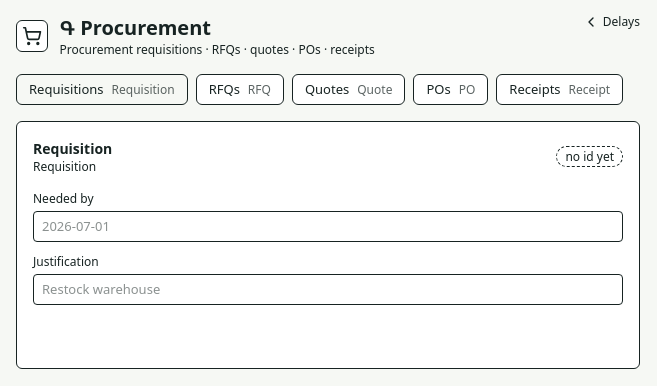
Test case: disabled-until-prior-id guards › receipt form is disabled until a PO id exists
Click the tab with test id "procurement-tab-receipt". click: [560, 90]
box: [496, 74, 623, 105]
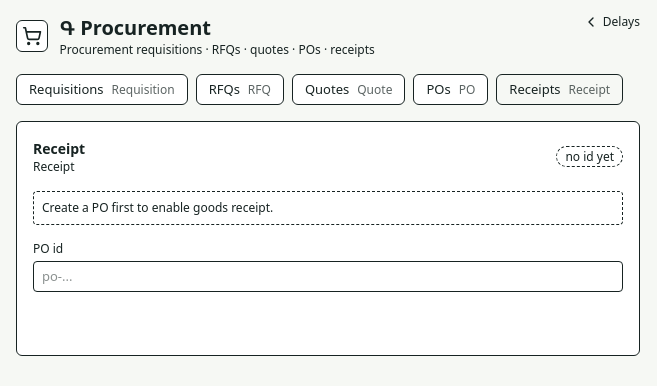
Check: the element showing "PO id" is disabled, box [33, 241, 623, 292]
Check: the text "Create a PO first to enable goods receipt." is shown, box [33, 191, 623, 225]
